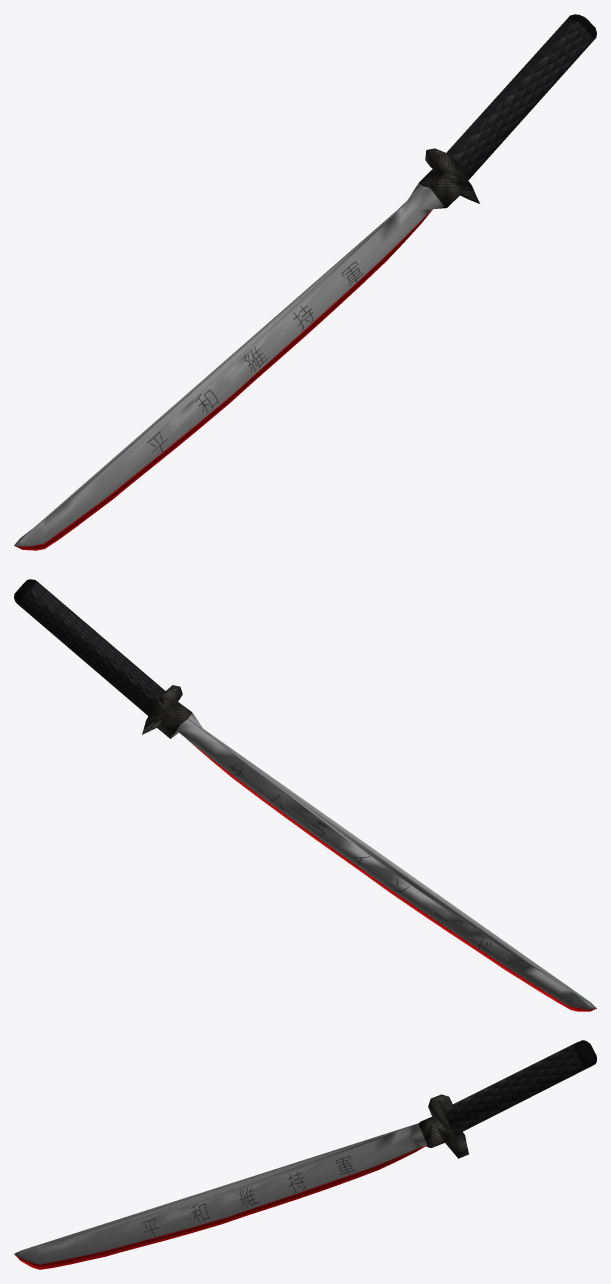
Rendered from letstry.obj.
The picture shows the model from 3 angles, top to bottom: view 1: azimuth 30°, elevation 25°; view 2: azimuth 150°, elevation 25°; view 3: azimuth 330°, elevation 25°; orthographic projection. The views are drawn at different scales.
Visible parts, largest first — view 1: Line001; view 2: Line001; view 3: Line001.
Boxes of the visible parts, bbox=[...] form: Line001: bbox=[14, 14, 596, 550]; Line001: bbox=[14, 579, 596, 1011]; Line001: bbox=[14, 1040, 596, 1269].
Bounding box in the file's own units: 57.91 × 33.14 × 7.22.
1 material, 1 textured.
